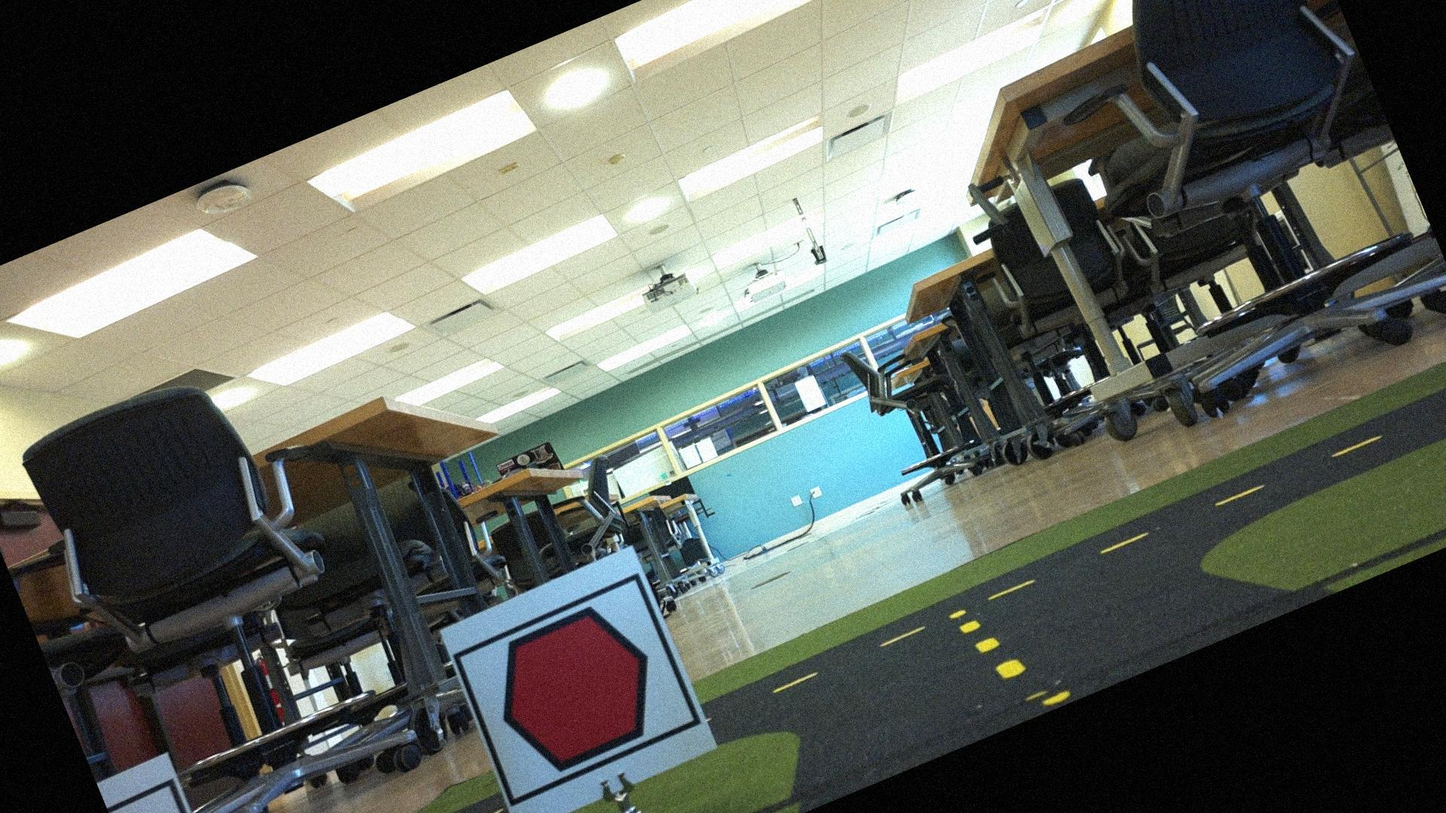stop: (457, 582, 692, 799)
yellowline: (950, 591, 1028, 691)
